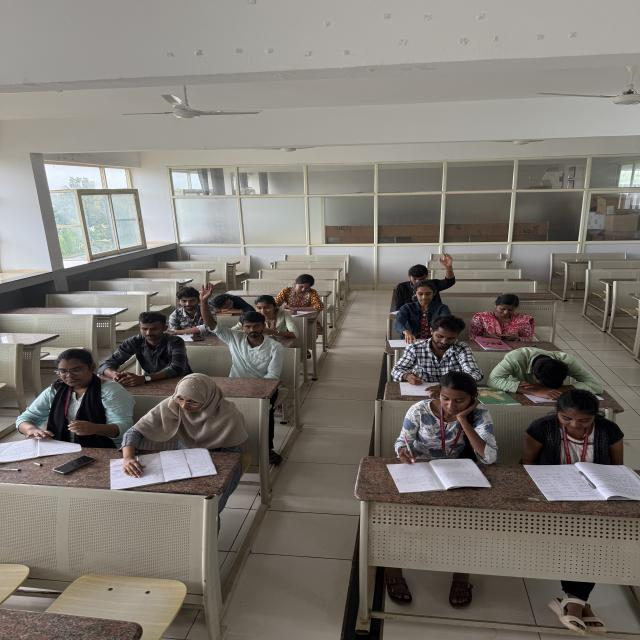Hand Rising: (194, 282, 285, 381), (391, 251, 457, 302)
Reading: (516, 384, 632, 498), (10, 346, 134, 445), (393, 280, 456, 342)
Sleeping: (489, 342, 618, 397), (200, 290, 259, 316)
Using Phone: (462, 292, 538, 343), (228, 295, 298, 341)
Writing: (116, 372, 261, 473), (386, 368, 496, 482), (387, 315, 484, 391), (272, 273, 330, 318)
